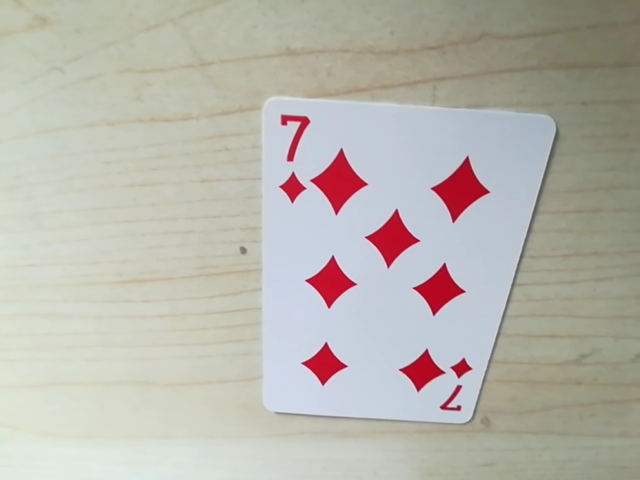fk 7: (270, 102, 314, 208), (439, 352, 475, 421)
